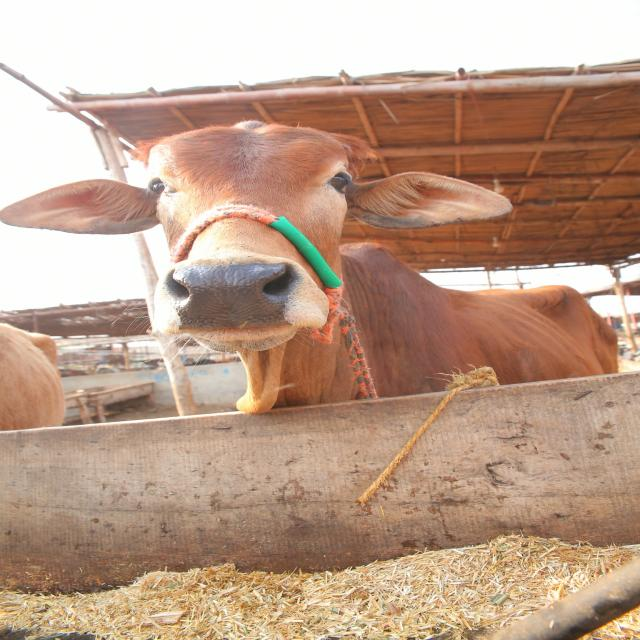muzzles: (150, 257, 304, 340)
